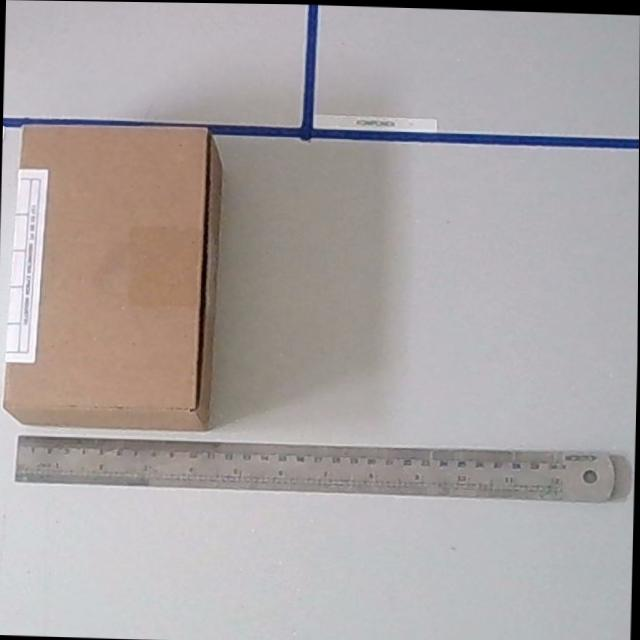box: (0, 114, 227, 436)
ruler: (13, 432, 617, 503)
